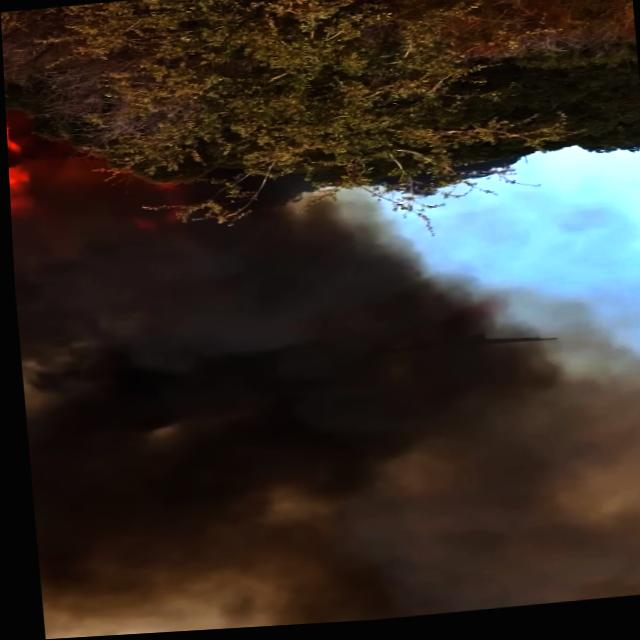Smoke: (9, 190, 640, 640)
